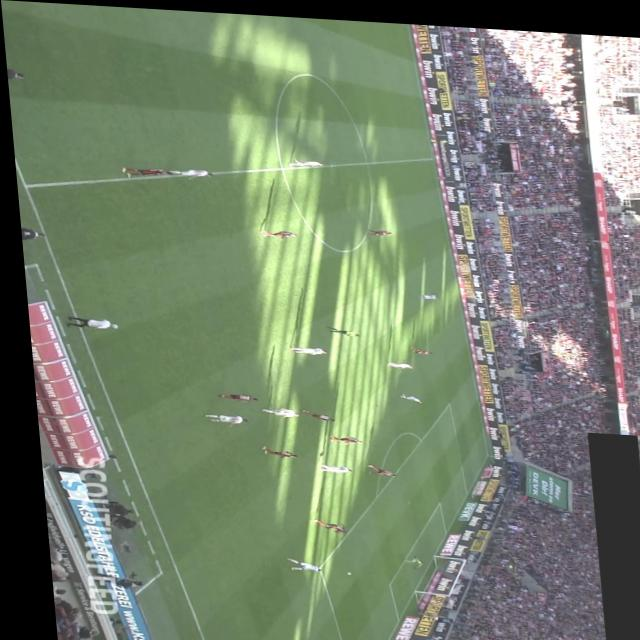goalkeeper: (391, 550, 414, 566)
player: (196, 411, 241, 425), (118, 165, 169, 177), (164, 166, 210, 178), (275, 555, 311, 570), (303, 515, 336, 531), (253, 443, 289, 455), (254, 404, 292, 415), (254, 227, 293, 237), (294, 406, 326, 418), (209, 391, 251, 400), (320, 431, 354, 442), (358, 461, 387, 473), (285, 155, 321, 164), (282, 344, 321, 352), (311, 461, 343, 470), (391, 389, 415, 399), (5, 69, 24, 80), (378, 358, 407, 365), (362, 225, 388, 232), (404, 342, 426, 350), (411, 288, 433, 295)
referee: (320, 322, 354, 333), (425, 133, 449, 140)
